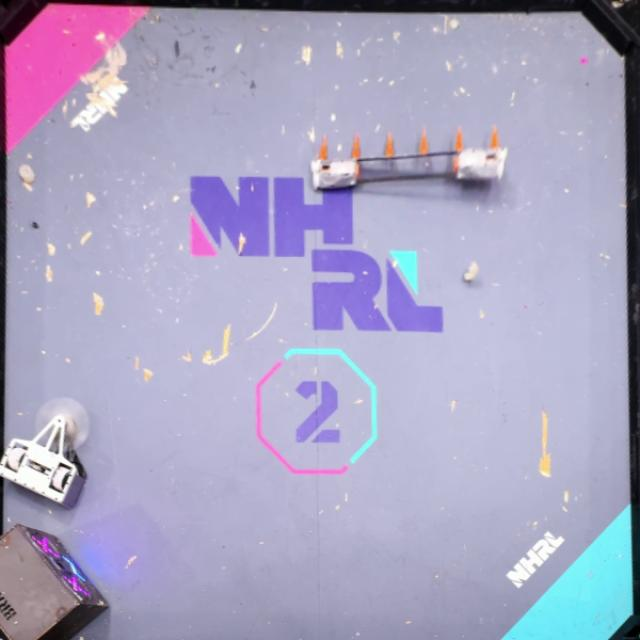housebot: (0, 522, 111, 640)
robot: (313, 127, 507, 191), (0, 392, 92, 507)
